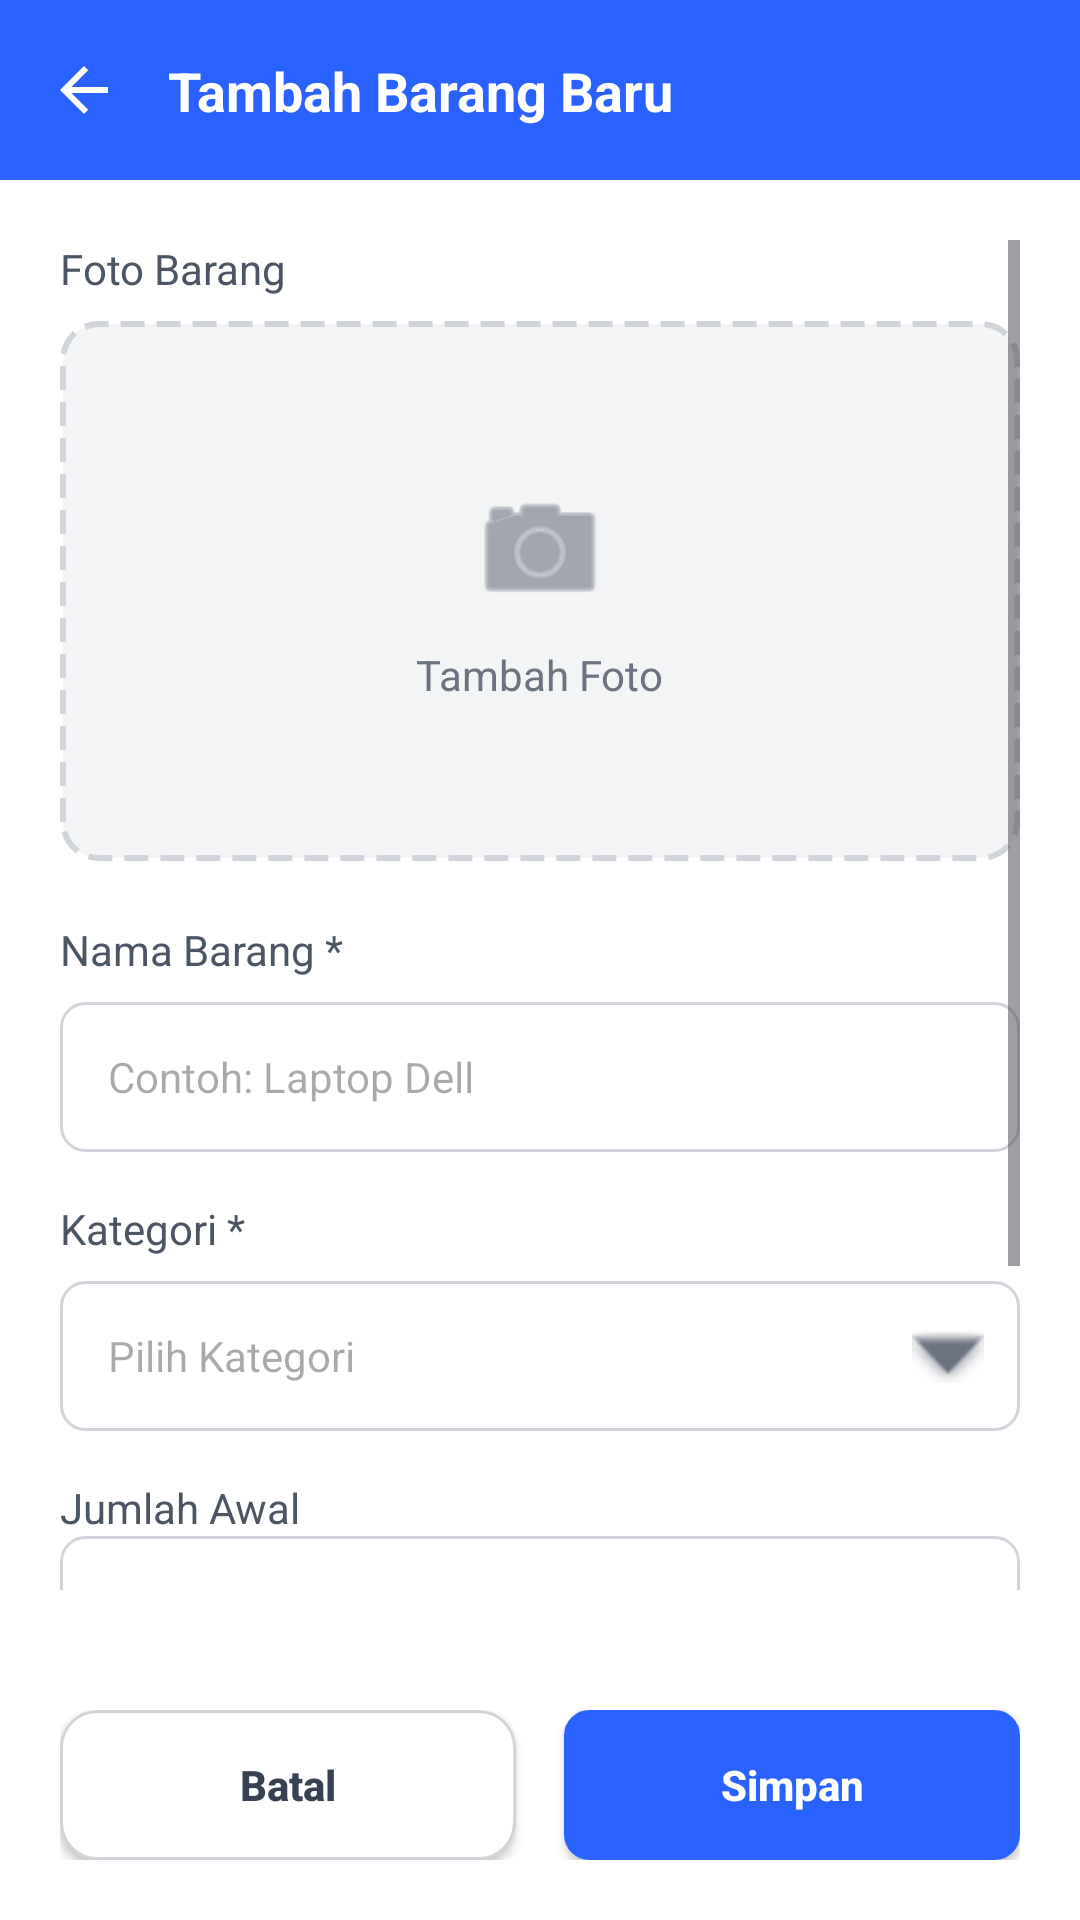

Icons on this 1080×1920 Android screen, each with the point to tap as (x=x, y=y):
ab back: (x=84, y=90)
arrow down float: (x=948, y=1355)
camera: (x=540, y=548)
